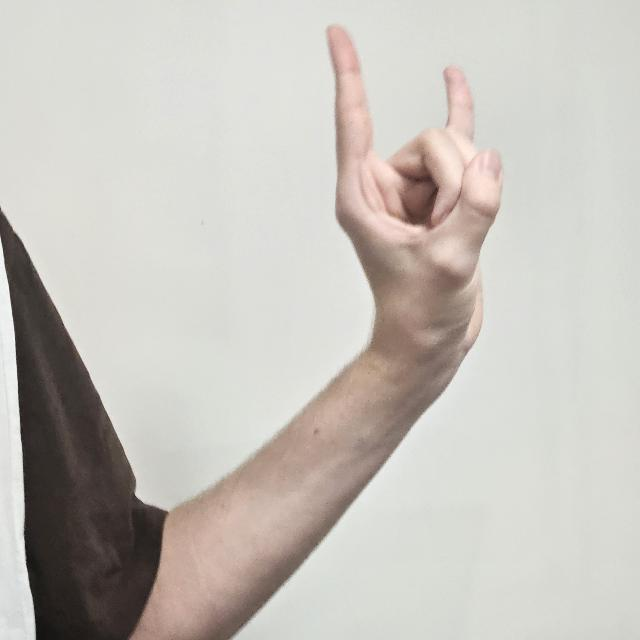L: (327, 22, 505, 386)
